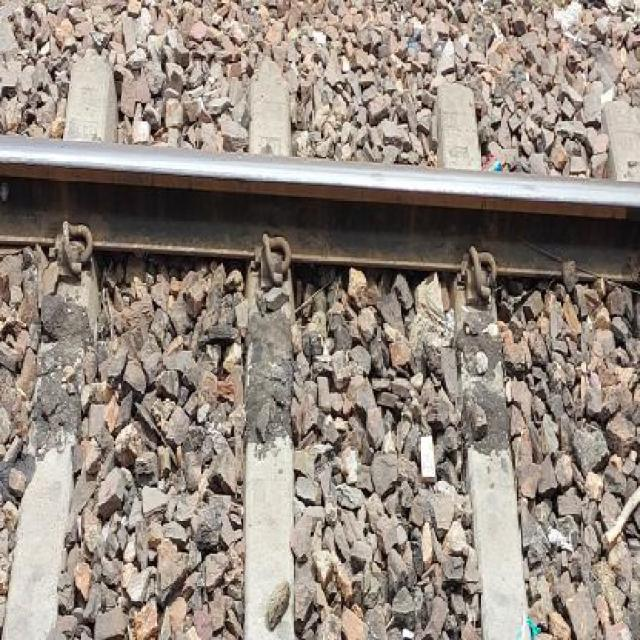non-defective: (0, 74, 640, 376)
